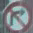Don't turn right: (2, 1, 29, 32)
